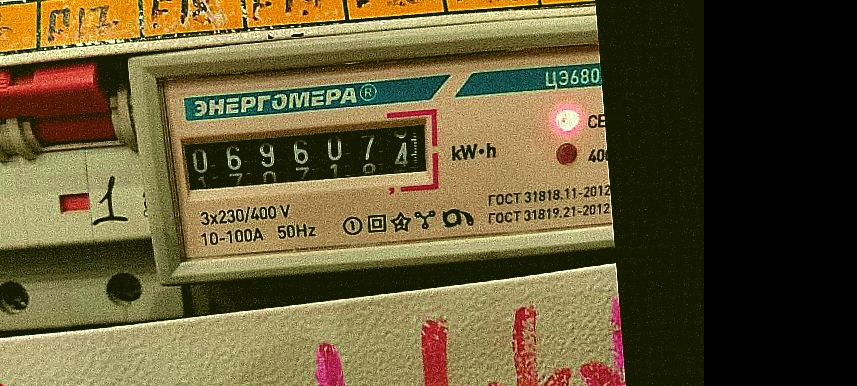0: (188, 145, 211, 175), (324, 132, 344, 162), (224, 143, 243, 170)
4: (391, 139, 410, 169)
6: (289, 134, 309, 166)
7: (357, 130, 377, 160)
9: (256, 139, 276, 168)
screen: (165, 104, 445, 209)
